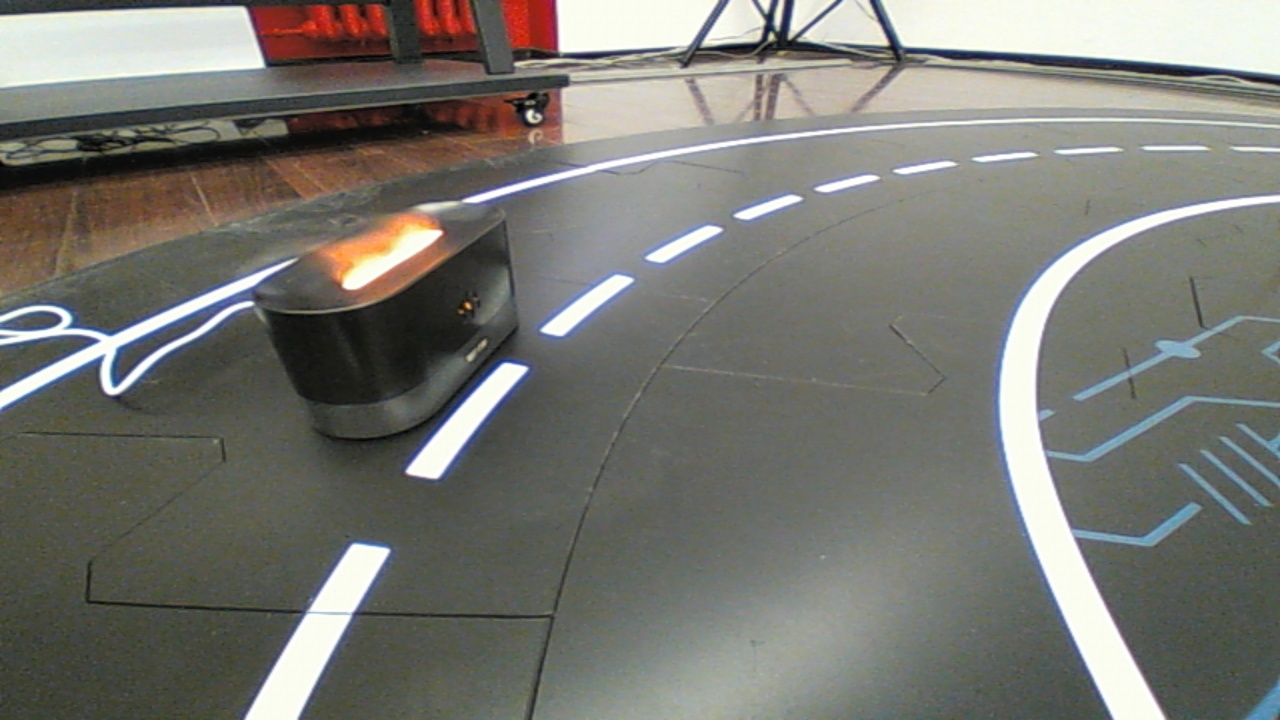Movement prohibition: (228, 198, 556, 448)
